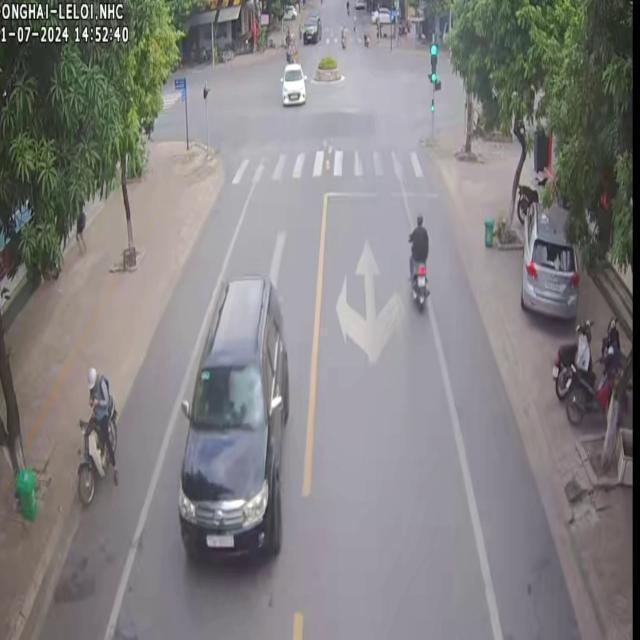car: (177, 276, 287, 558), (519, 200, 578, 318), (279, 60, 306, 105)
green_light: (429, 45, 438, 86)
motobike: (76, 365, 117, 504), (564, 325, 620, 422), (550, 318, 590, 398), (407, 214, 428, 309)
stop_line: (327, 188, 439, 196)
